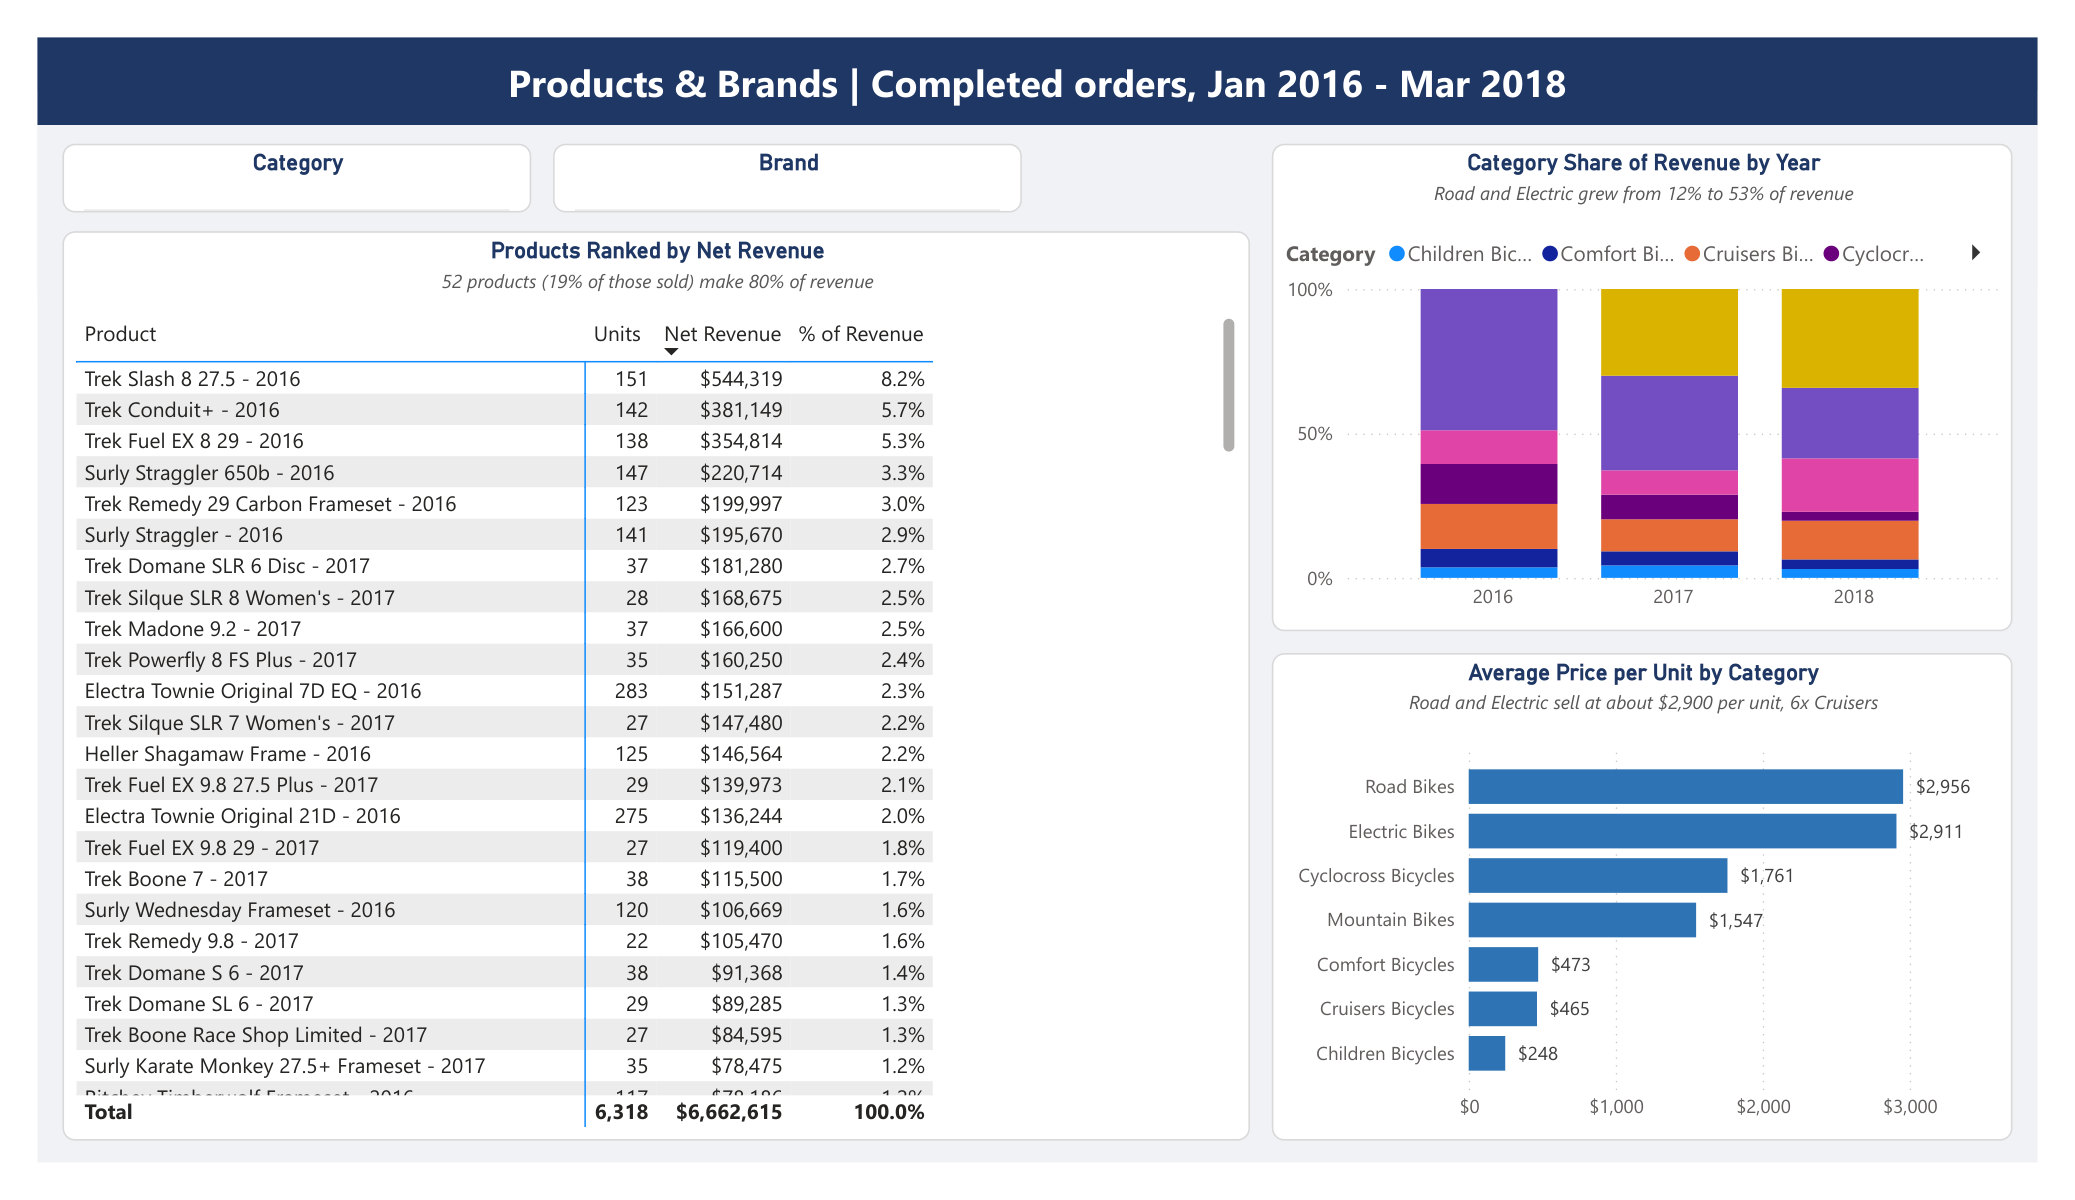

The dashboard page shown, as its layout file describes it:
{"tool":"powerbi","page":{"name":"Products","canvas":[1280,720],"ordinal":2},"visuals":[{"type":"shape","box":[0,0,1280,56],"z":17000},{"type":"slicer","title":"Category","fields":{"Values":["Products.Category"]},"box":[16,68,300,44],"z":18000},{"type":"slicer","title":"Brand","fields":{"Values":["Products.Brand"]},"box":[330,68,300,44],"z":19000},{"type":"pivotTable","title":"Products Ranked by Net Revenue","fields":{"Rows":["Products.Product"],"Values":["Sales.Units","Sales.Net Revenue","Sales.% of Revenue"]},"box":[16,124,760,582],"z":20000},{"type":"hundredPercentStackedColumnChart","title":"Category Share of Revenue by Year","fields":{"Category":["Date.Year"],"Series":["Products.Category"],"Y":["Sales.Net Revenue"]},"box":[790,68,474,312],"z":21000},{"type":"clusteredBarChart","title":"Average Price per Unit by Category","fields":{"Category":["Products.Category"],"Y":["Sales.Avg Price per Unit"]},"box":[790,394,474,312],"z":22000}]}

Visuals, with their boxes on the page's 1280x720 design canvas (x1, y1, x2, y2). These are canvas units, not pixel positions in the 2075x1200 screenshot, which may show the page scaled, cropped or inside an application window:
shape: BBox(0, 0, 1280, 56)
"Category" slicer: BBox(16, 68, 316, 112)
"Brand" slicer: BBox(330, 68, 630, 112)
"Products Ranked by Net Revenue" pivotTable: BBox(16, 124, 776, 706)
"Category Share of Revenue by Year" hundredPercentStackedColumnChart: BBox(790, 68, 1264, 380)
"Average Price per Unit by Category" clusteredBarChart: BBox(790, 394, 1264, 706)
